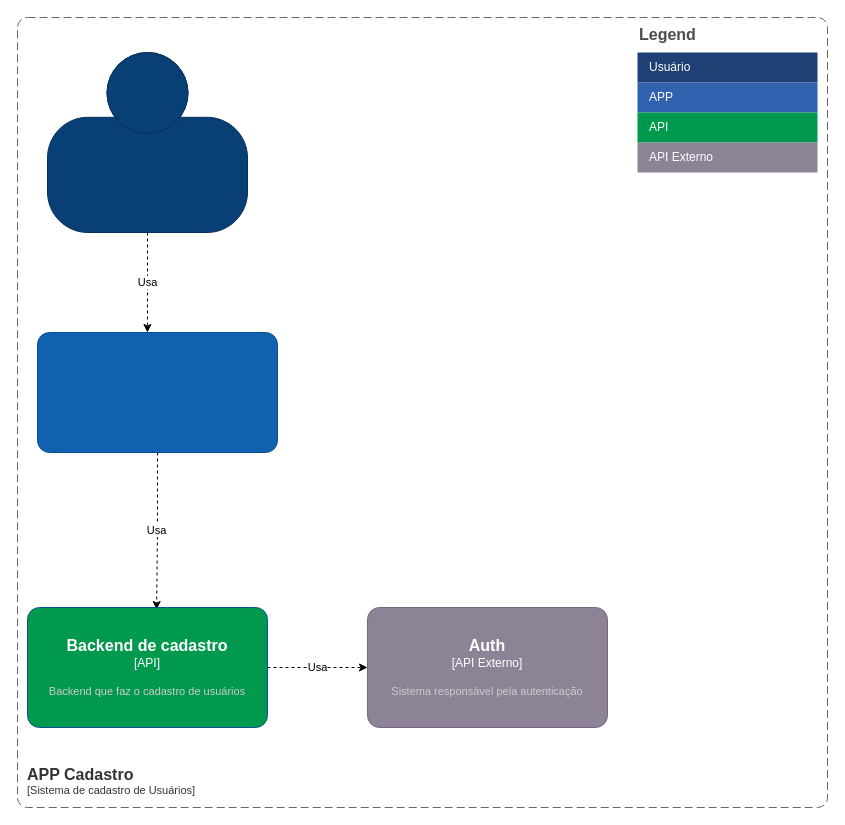
Image size: 845x825. Some labels were removed from this diagram. The shapes that lost their labels are listed below. From the top down, each one's centre as x and y in pixels, then its label:
pixel 147 142: Cadastrador [Usuário] Usuário que faz o cadastro
pixel 157 392: APP de Cadastro [APP] APP que faz o cadastro de usuários
